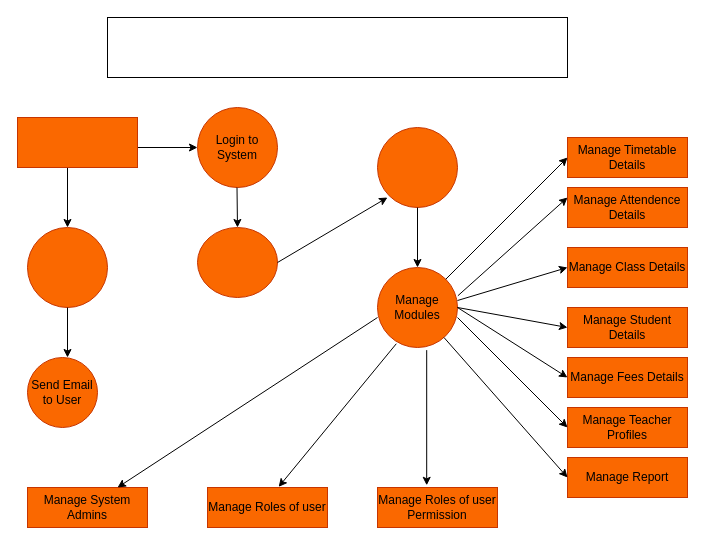
Image size: 705x545. Some labels were removed from this diagram. The shapes that lost their labels are listed below. From the top down, each one's centre as x and y in pixels, then its label:
At (x=337, y=47): "Student Information System".
At (x=77, y=142): "Admin".
At (x=417, y=167): "Check Roles of Access".
At (x=67, y=267): "Forgot Pssword".
At (x=237, y=262): "Check Credentials".
